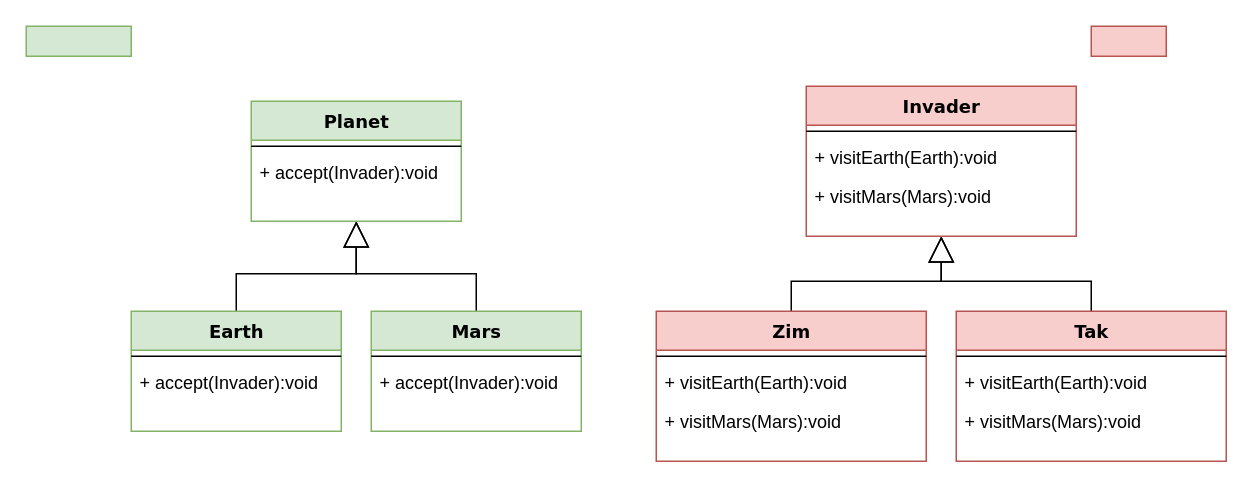
This 1253x488 diagram has some shape labels left out. The shapes that lost their labels are listed below. From the top down, each one's centre as x and y in pixels, then its label:
(78,40): Component
(1128,40): Visitor
